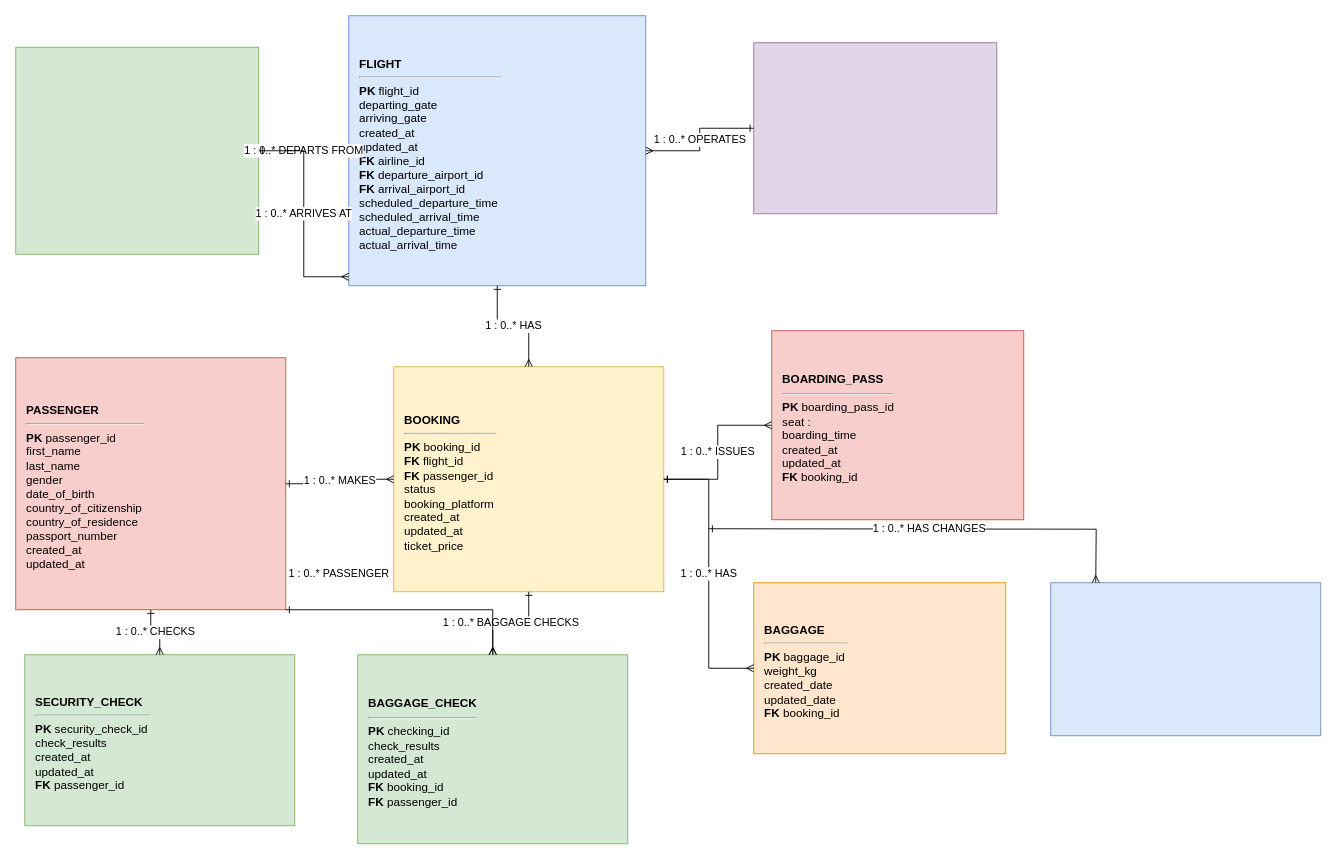
The diagram is 1337 pixels wide and 860 high, and some of its shapes have lost their labels. Each missing label, with the centre of its shape:
"AIRLINE PK airline_id airline_code name country created_at updated_at" belongs at point (875, 128).
"AIRPORT PK airport_id airport_name country state city created_at updated_at" belongs at point (137, 150).
"BOOKING_CHANGE PK change_id FK booking_id changed_at change_details" belongs at point (1185, 659).
